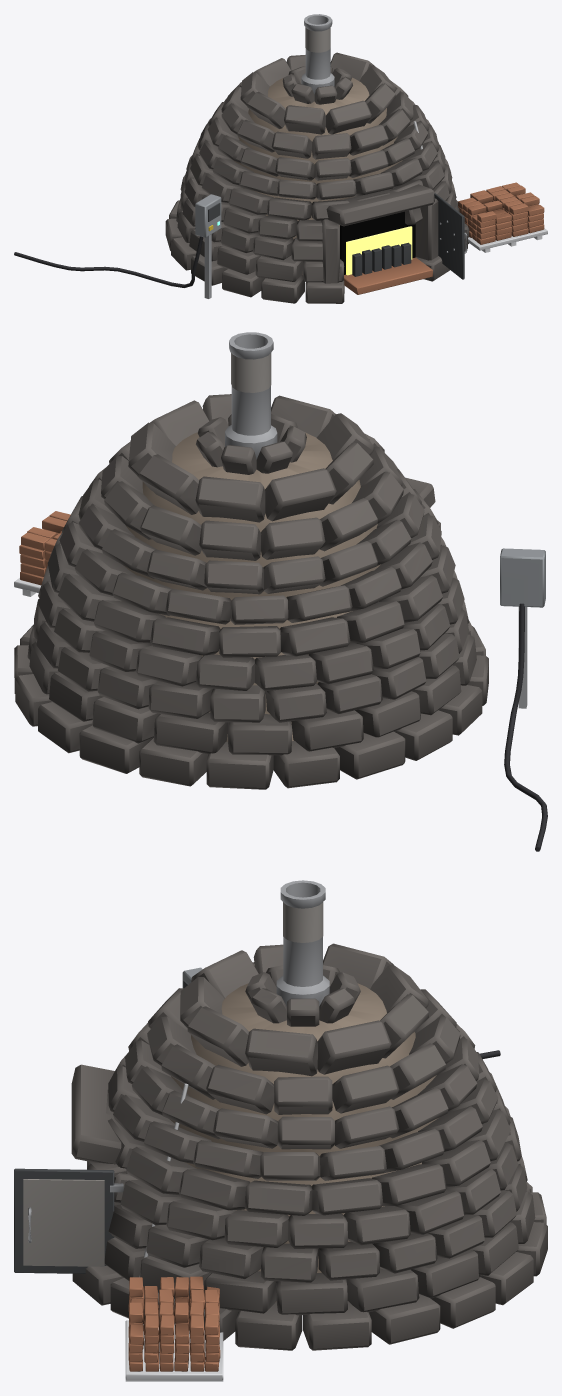
File: bs_kiln.glb
3 renders of one model, top to bottom at view 1: azimuth 30°, elevation 25°; view 2: azimuth 150°, elevation 25°; view 3: azimuth 270°, elevation 25°, orthographic. The views are drawn at different scales.
Parts seen in each view (by area): view 1: bs_kiln_mesh, stock_mesh; view 2: bs_kiln_mesh, stock_mesh; view 3: bs_kiln_mesh, stock_mesh.
Boxes of the visible parts, x1,y1,x2,y2 form: bs_kiln_mesh: (14, 14, 469, 303); stock_mesh: (457, 182, 547, 252); bs_kiln_mesh: (14, 332, 547, 851); stock_mesh: (14, 511, 70, 596); bs_kiln_mesh: (14, 880, 547, 1350); stock_mesh: (125, 1276, 223, 1381).
Size of the model in its own units: 5.8 by 2.92 by 3.94.
